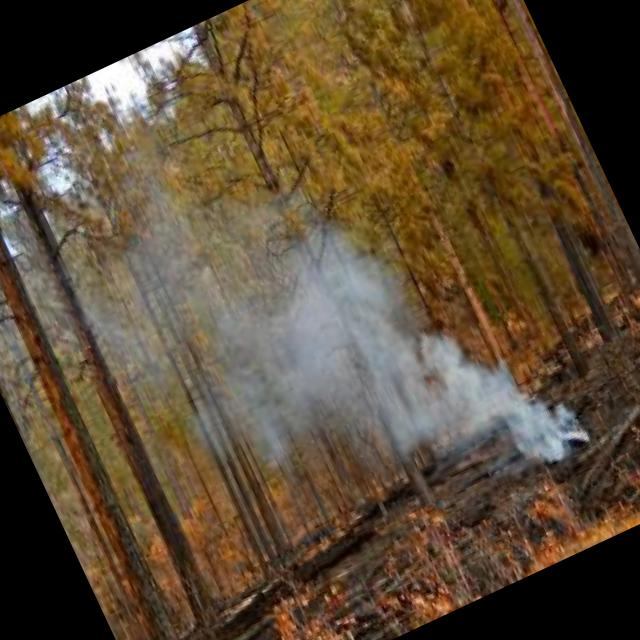smoke: (264, 158, 602, 550)
